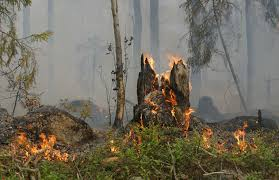fire: (138, 53, 254, 148), (2, 129, 68, 161)
